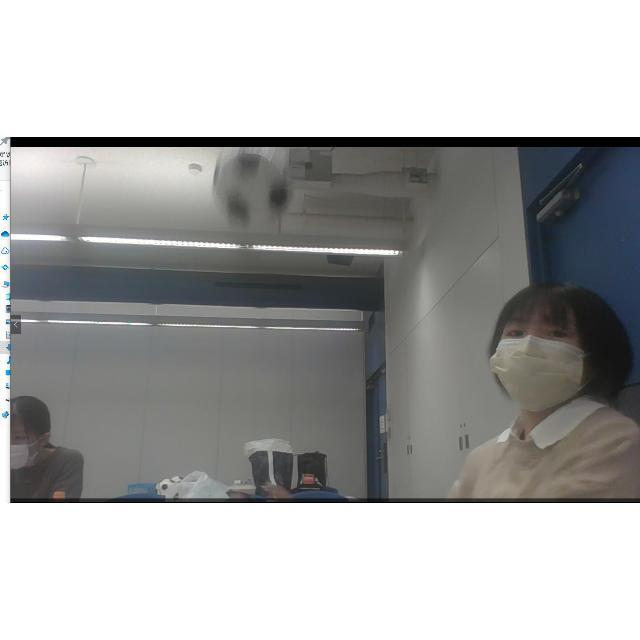ball: (216, 154, 288, 224)
